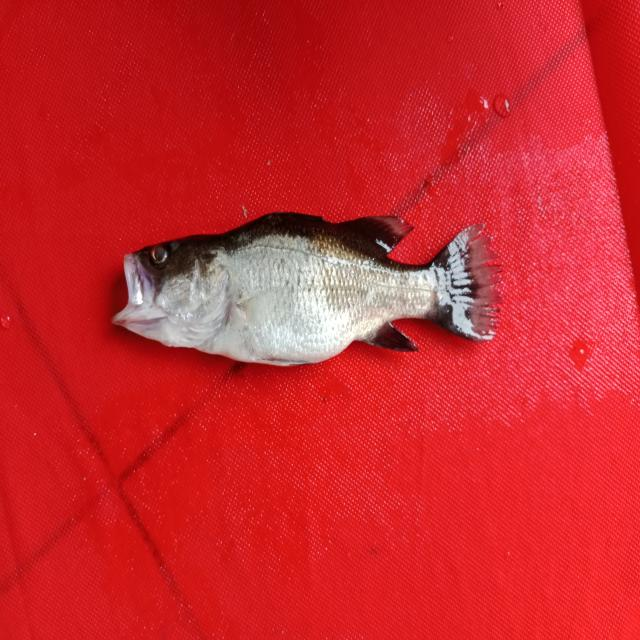ikan: (100, 200, 503, 382)
